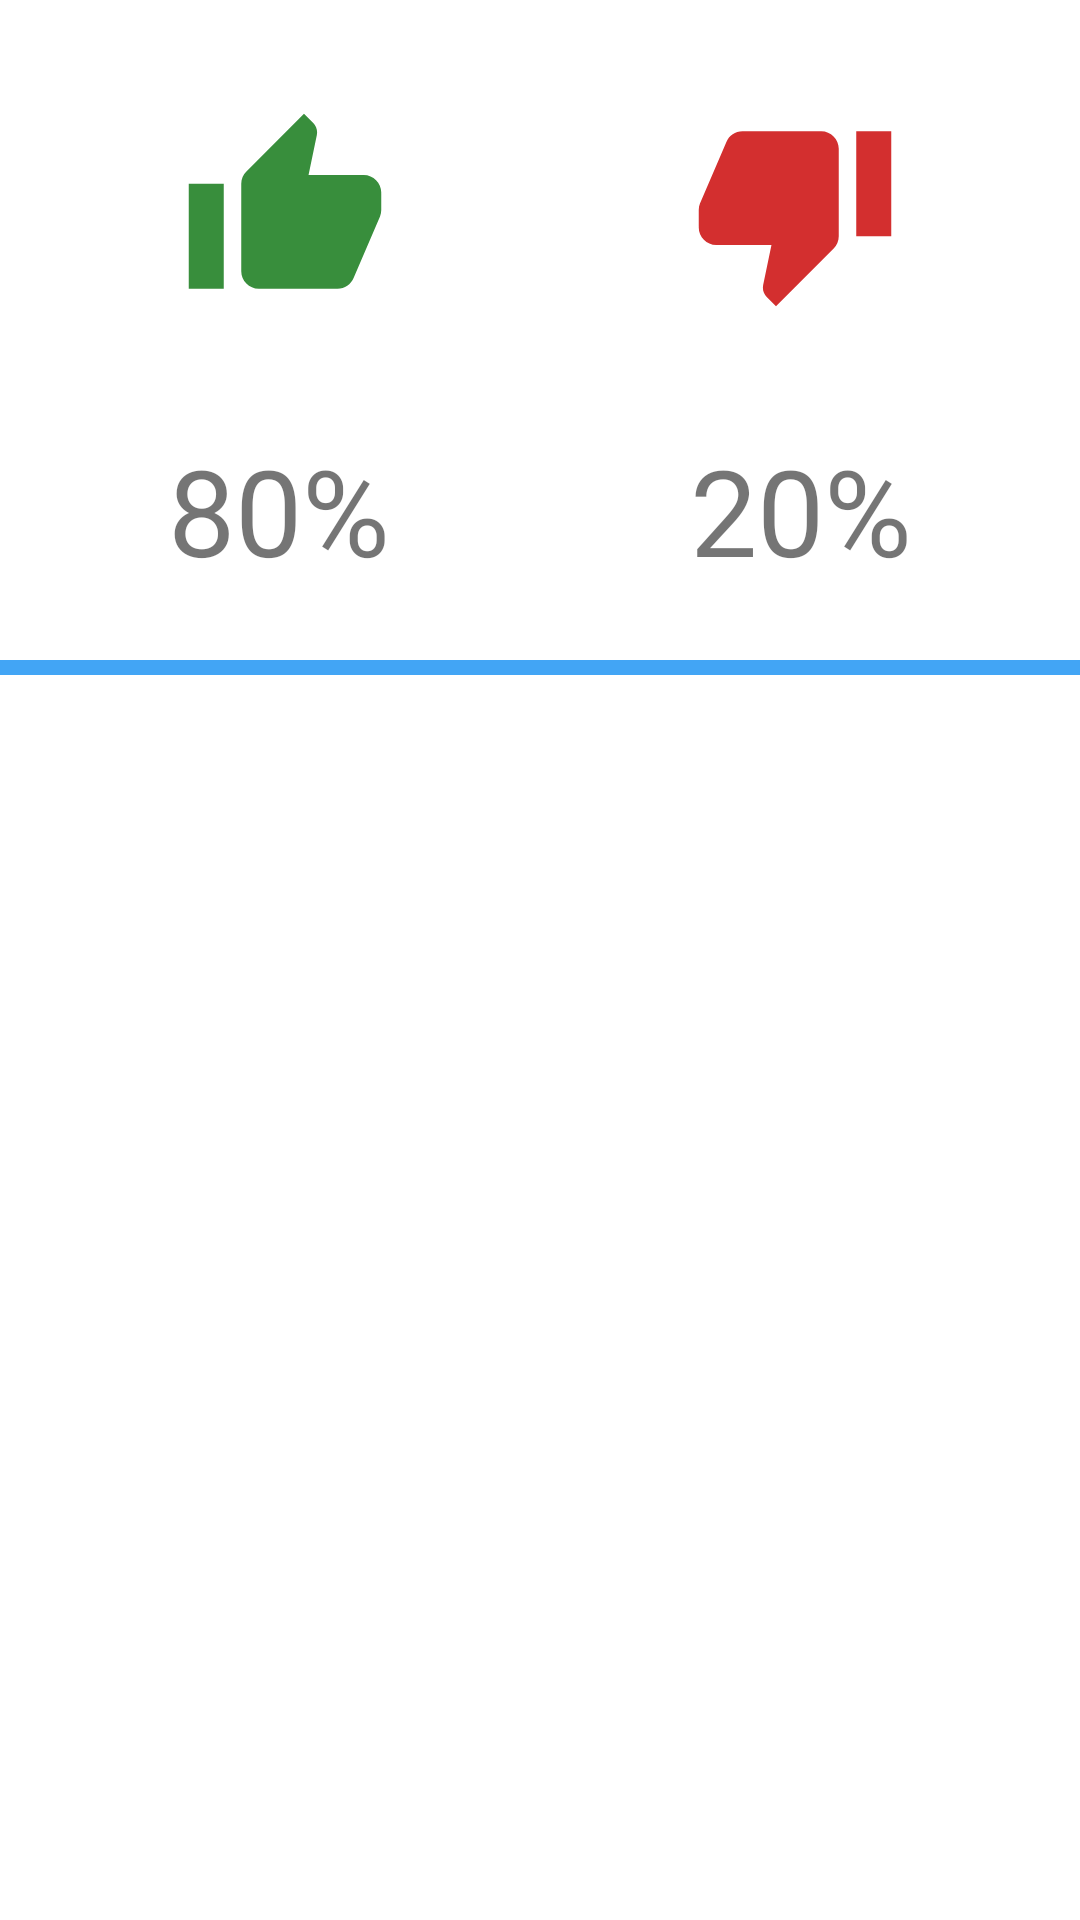

Screen size 1080*1920. Icon name, then its box in pixels as (x1, y1, x2, y2):
megusta: (188, 114, 382, 289)
nomegusta: (698, 131, 892, 306)
